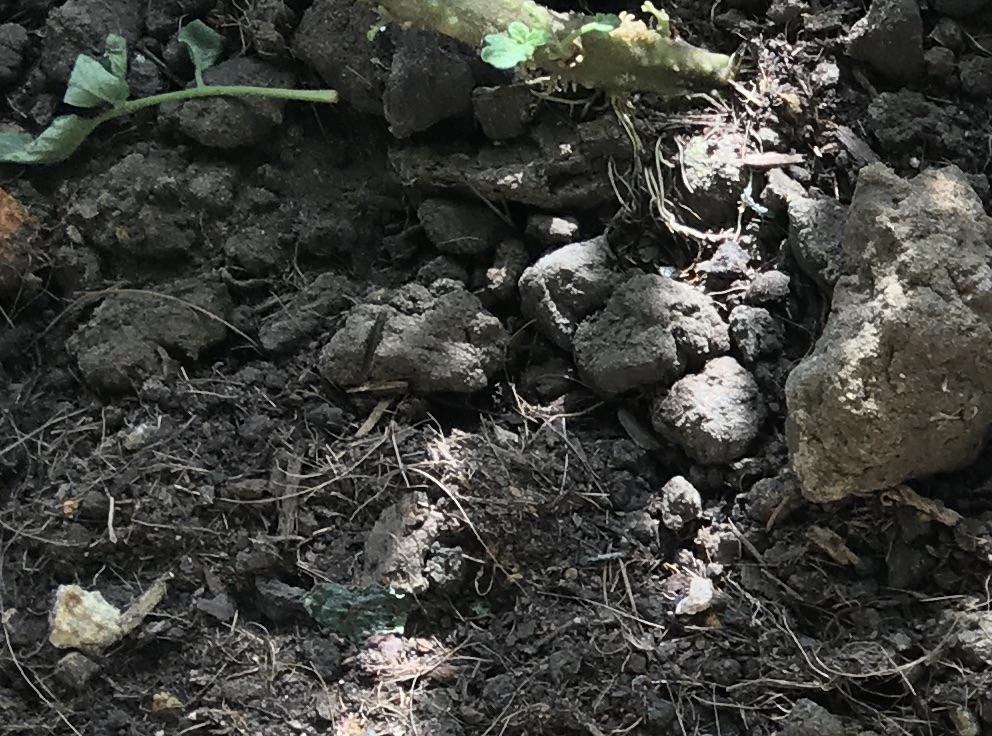block: (784, 160, 992, 510), (578, 275, 742, 394), (331, 287, 504, 395), (652, 346, 773, 462)
